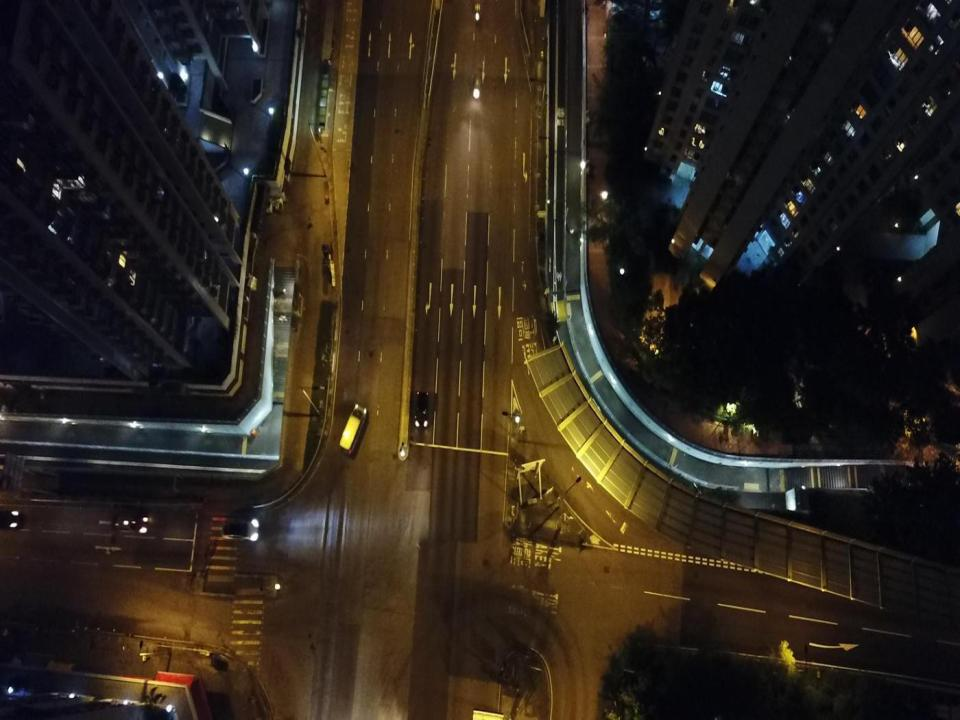car: (221, 519, 259, 542), (110, 514, 148, 534), (414, 391, 429, 428), (0, 509, 24, 529)
van: (339, 403, 367, 457)
